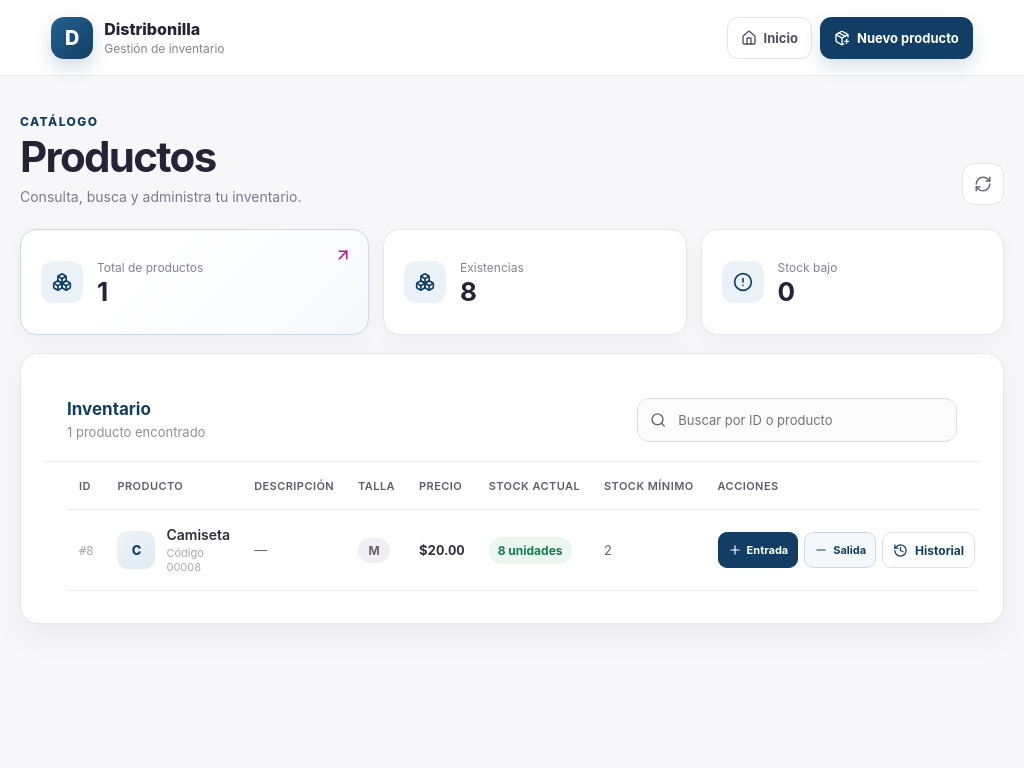
Scenario: prevents an exit larger than the current stock
Click the button with aria-label "Disminuir stock de Camiseta": (840, 550) [804,532,876,568]
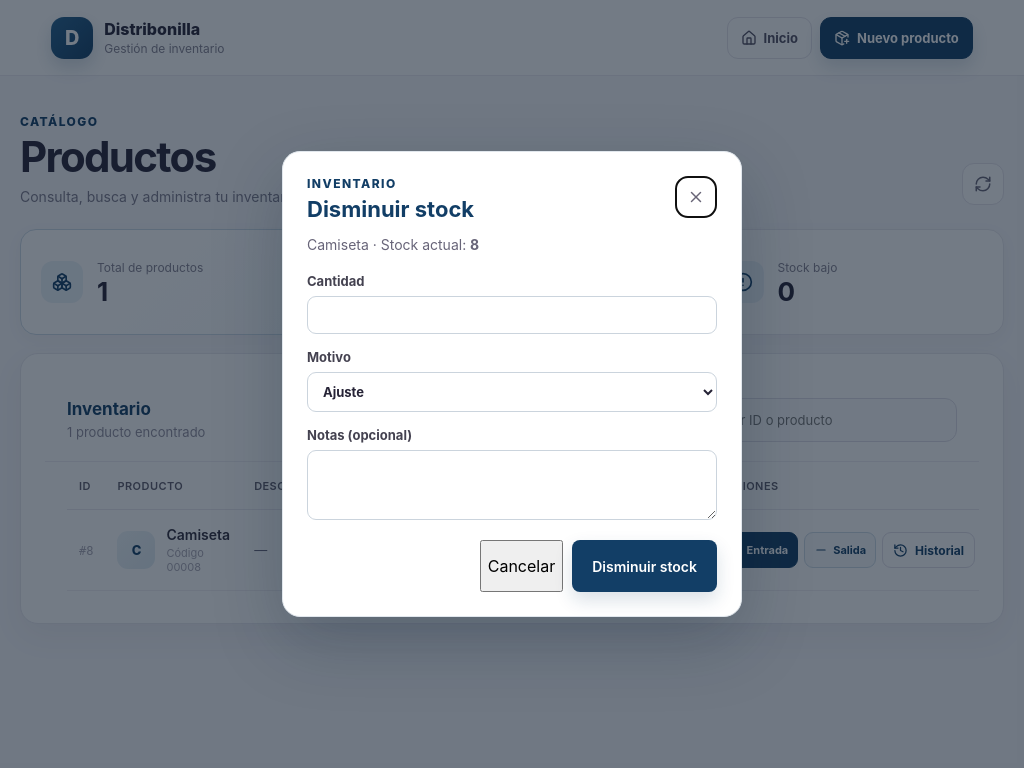
In the number field labelled "Cantidad": (512, 315) [307,296,717,334], type "9"
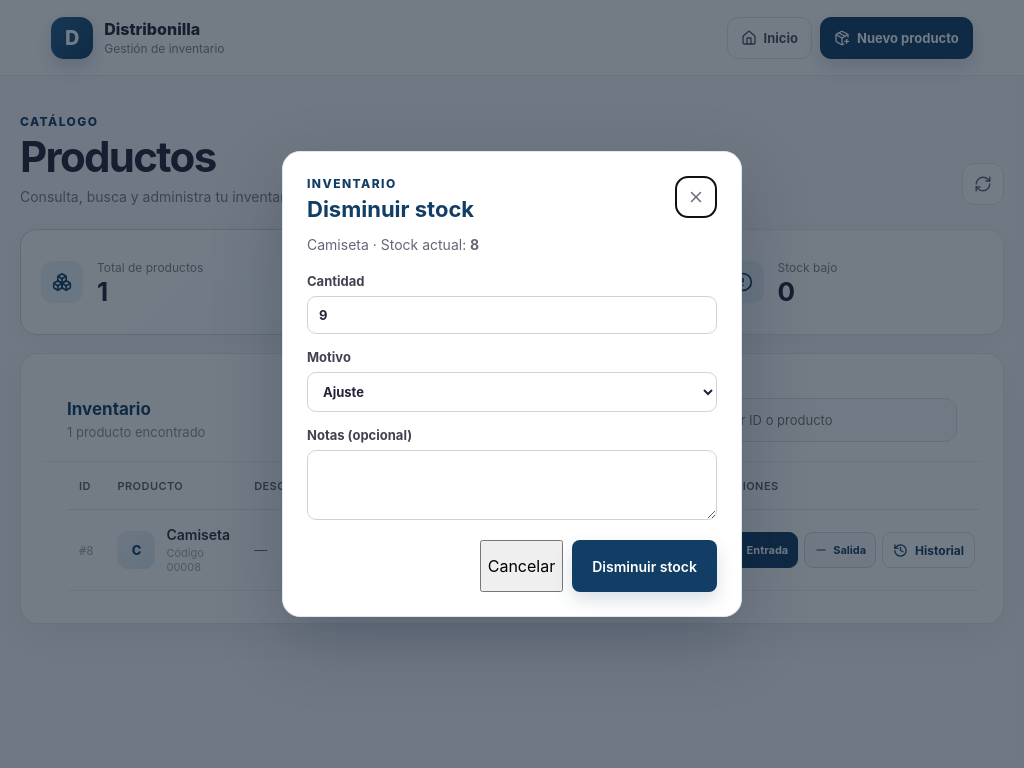
Click the button "Disminuir stock": (645, 566) [572,540,717,592]
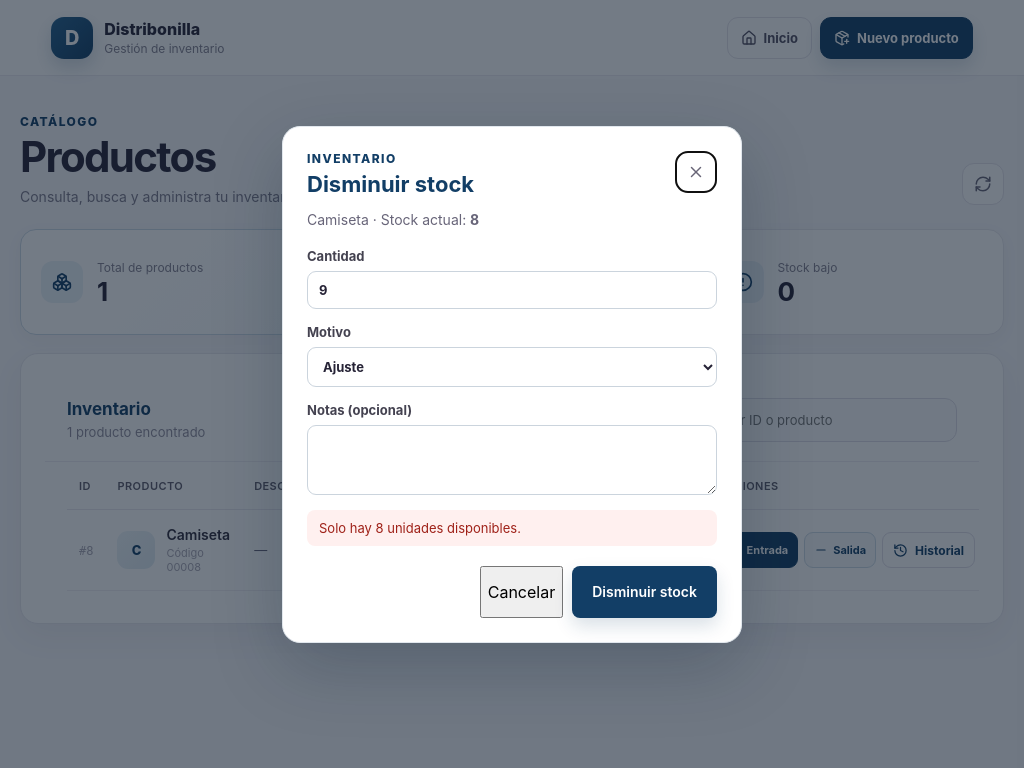
Expected: the message reads "Solo hay 8 unidades disponibles.", [319,520,521,536]
